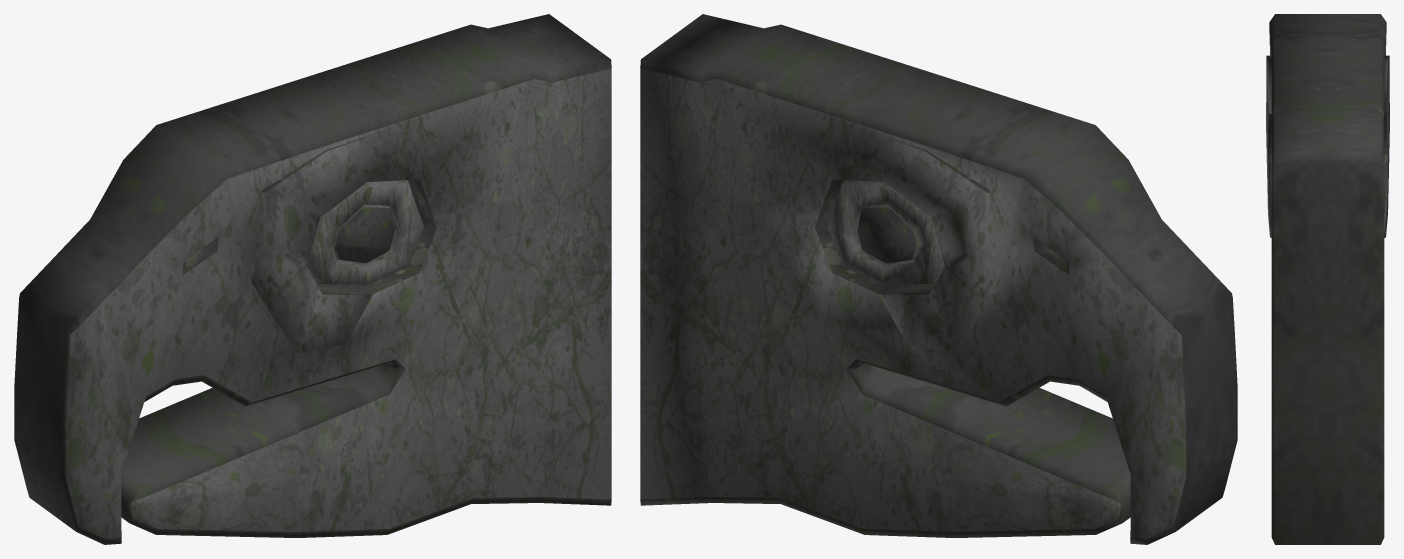
File: ASSETMODEL_PROP_ROCK_AGUILA.fbx
3 views of the same model, side by side, from view 1: azimuth 30°, elevation 25°; view 2: azimuth 150°, elevation 25°; view 3: azimuth 270°, elevation 25° (orthographic). The views are drawn at different scales.
Visible parts, largest first — view 1: Plane; view 2: Plane; view 3: Plane.
Boxes of the visible parts, x1,y1,x2,y2 form: Plane: (14, 14, 611, 544); Plane: (640, 14, 1237, 544); Plane: (1266, 14, 1389, 544).
Size of the model in its own units: 403 by 323 by 93.65.
1 material, 1 textured.
